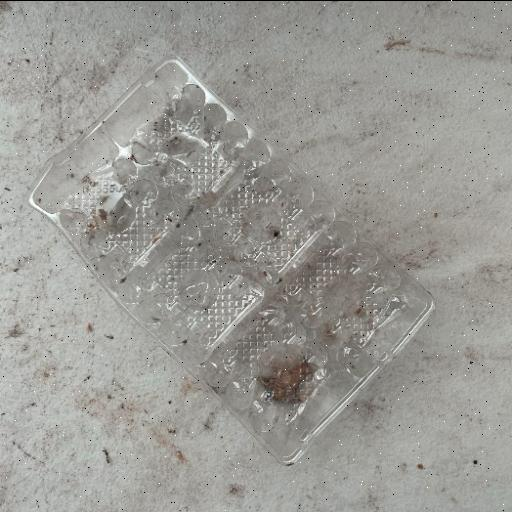Plastic: (26, 55, 436, 467)
